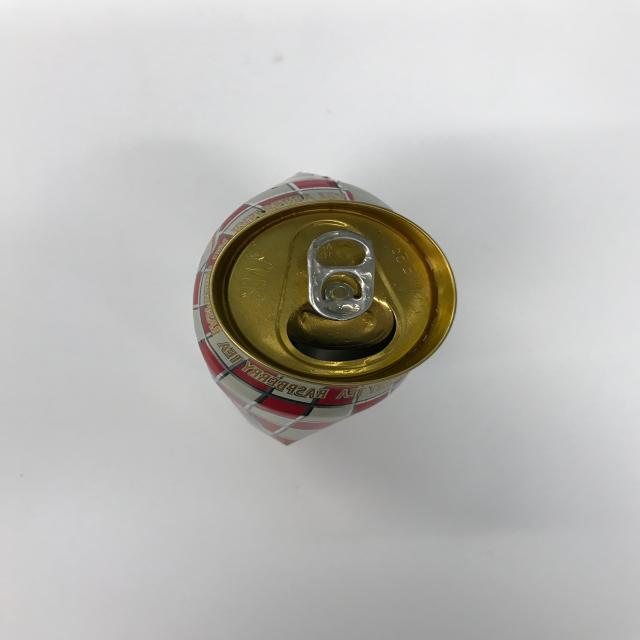metal: (192, 171, 458, 446)
